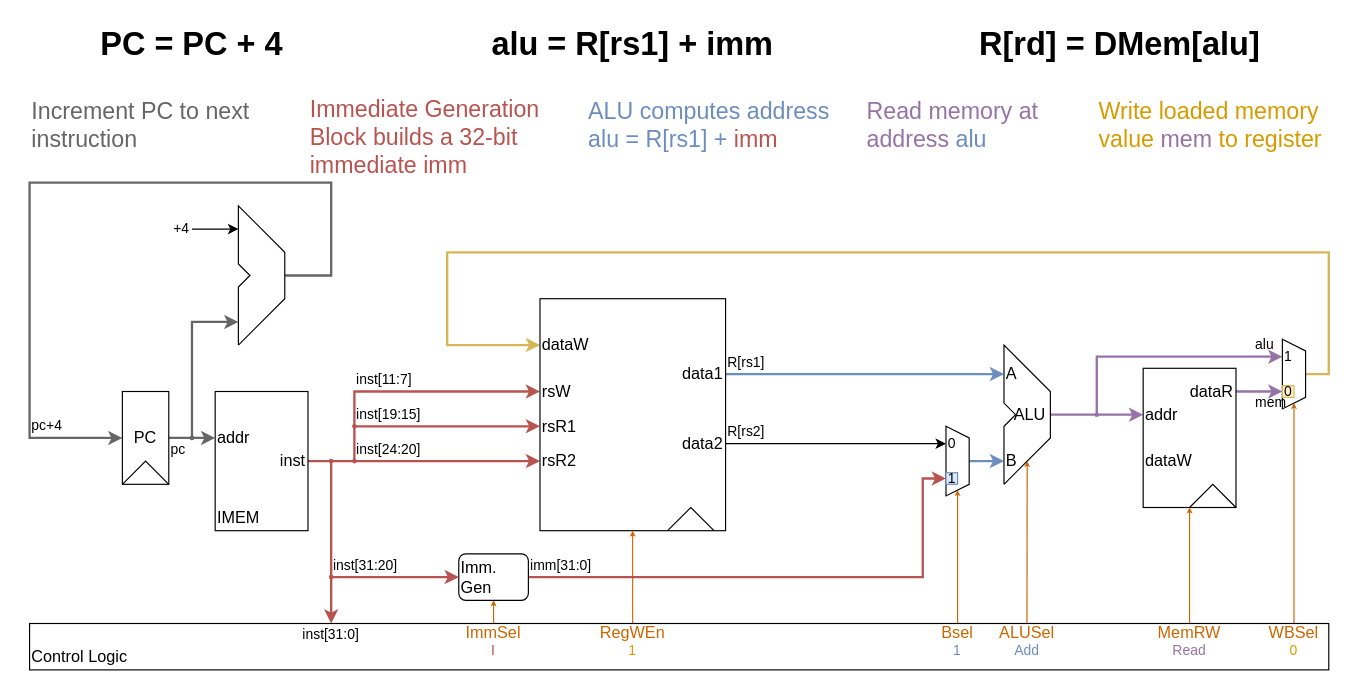
The diagram is 1358 pixels wide and 690 high, and some of its shapes have lost their labels. The box of each missing label's shape, as (x1, y1, x2, y2) in pixels:
Add: (238, 252, 284, 345)
DMEM: (1142, 367, 1236, 507)
RegFile: (539, 298, 726, 531)
